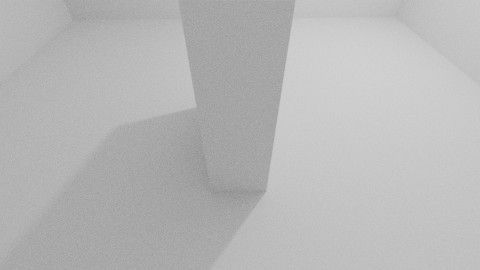cheminee: (178, 1, 296, 193)
